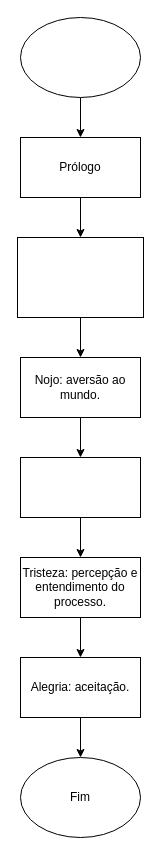
Some shapes in this 161 by 855 pixel diagram are drawn without their labels. The shapes that lost their labels are listed below. From the top down, each one's centre as x and y in pixels, then its label:
[80,57]: Início
[80,277]: Medo: medo da nova fase.
[80,487]: Raiva: frustração
